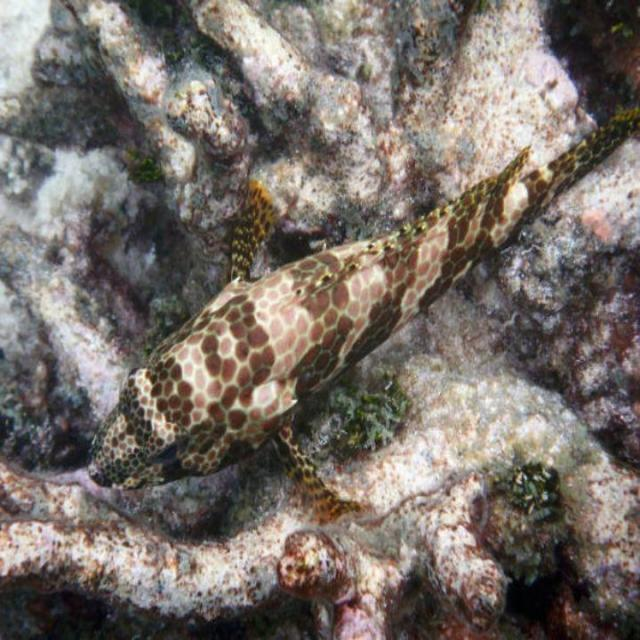Dead Coral: (1, 467, 609, 640), (62, 0, 511, 172)
